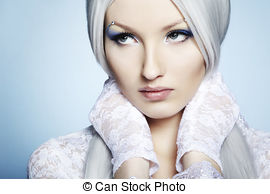face: (87, 1, 228, 126)
